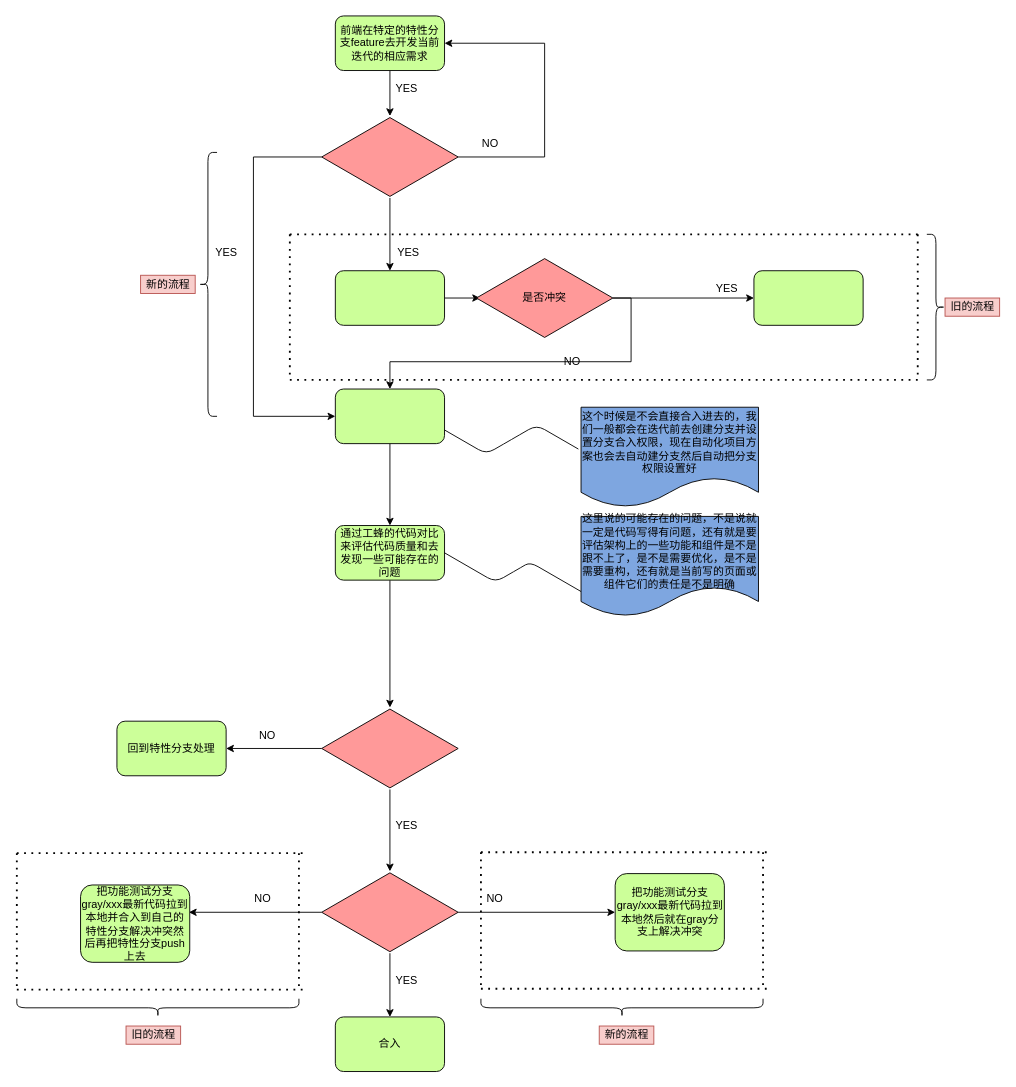
The diagram is 1016 pixels wide and 1087 high, and some of its shapes have lost their labels. The centre of each missing label's shape, as x and y in pixels:
"在工蜂上提合并请求合入到功能测试分支gray/xxx" goes at (x=389, y=416).
"开发完成" goes at (x=389, y=156).
"把功能测试分支gray/xxx的最新代码拉取到本地然后合入自己的特性分支" goes at (x=389, y=297).
"本地特性分支解决冲突" goes at (x=808, y=297).
"没有冲突" goes at (x=389, y=911).
"没有问题" goes at (x=389, y=748).
